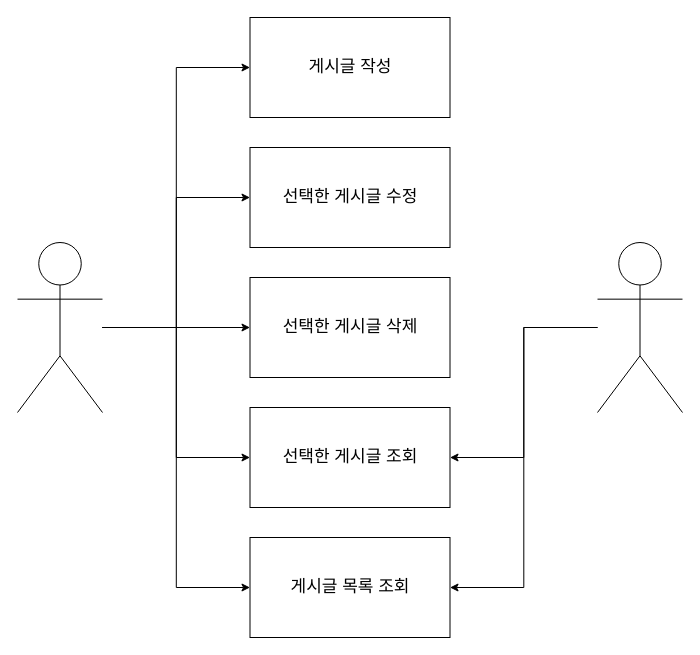
The diagram is 700 pixels wide and 655 high, and some of its shapes have lost their labels. The centre of each missing label's shape, as x and y in pixels:
"사용자" belongs at (x=639, y=327).
"작성자" belongs at (x=59, y=327).
